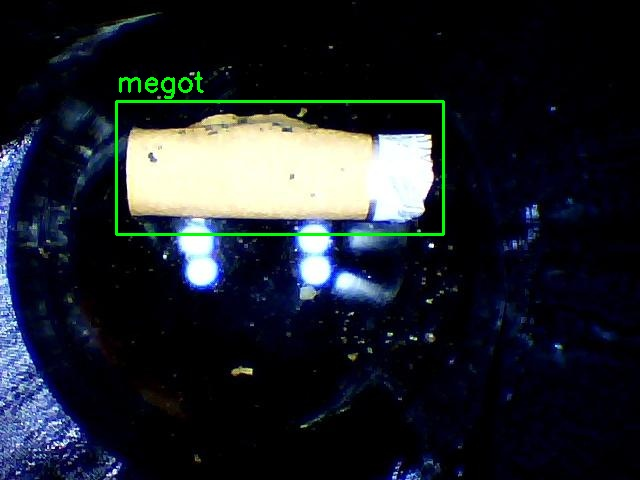megot: (116, 101, 443, 234)
